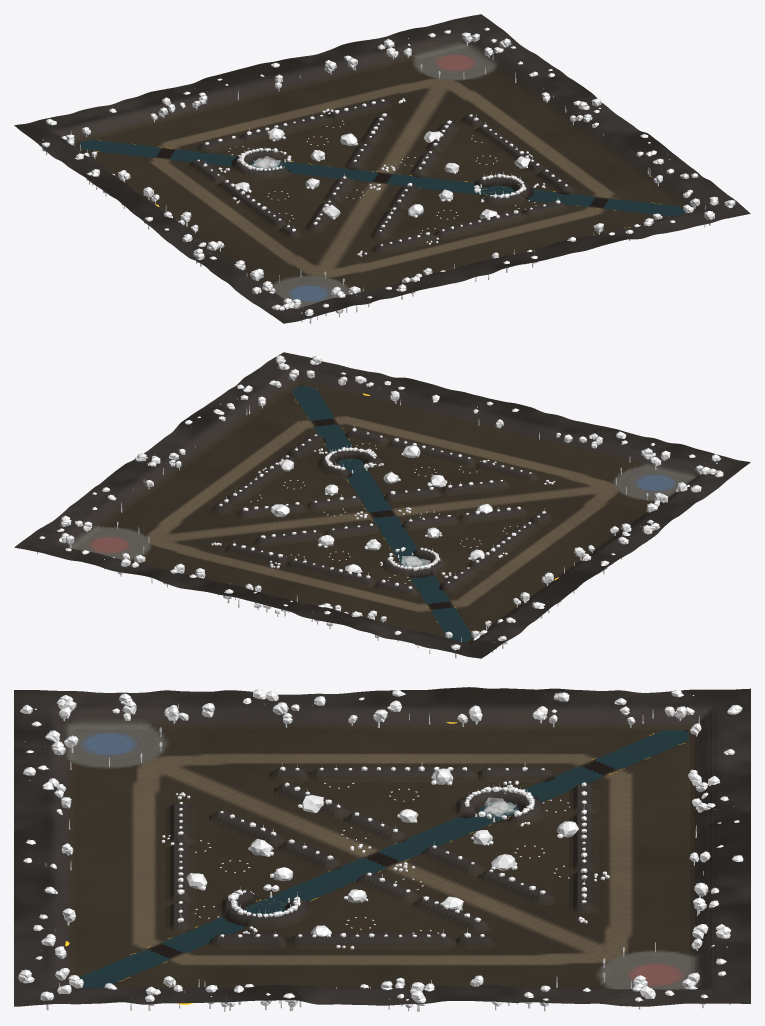
Rendered from map_grieta_ceniza.glb.
The picture shows the model from 3 angles, top to bottom: view 1: azimuth 30°, elevation 25°; view 2: azimuth 150°, elevation 25°; view 3: azimuth 270°, elevation 25°; orthographic projection. The views are drawn at different scales.
Parts seen in each view (by area): view 1: grieta_ceniza_terreno, grieta_ceniza_decorado, grieta_ceniza_agua; view 2: grieta_ceniza_terreno, grieta_ceniza_decorado, grieta_ceniza_agua; view 3: grieta_ceniza_terreno, grieta_ceniza_decorado, grieta_ceniza_agua.
Boxes of the visible parts, <box> form: grieta_ceniza_terreno: <box>14,14,750,323</box>; grieta_ceniza_decorado: <box>40,27,735,323</box>; grieta_ceniza_agua: <box>78,139,685,216</box>; grieta_ceniza_terreno: <box>14,352,750,658</box>; grieta_ceniza_decorado: <box>37,355,723,658</box>; grieta_ceniza_agua: <box>291,385,472,642</box>; grieta_ceniza_terreno: <box>14,687,750,1006</box>; grieta_ceniza_decorado: <box>18,689,743,1011</box>; grieta_ceniza_agua: <box>79,730,688,988</box>.
Bounding box in the file's own units: 170 × 6.66 × 170.
